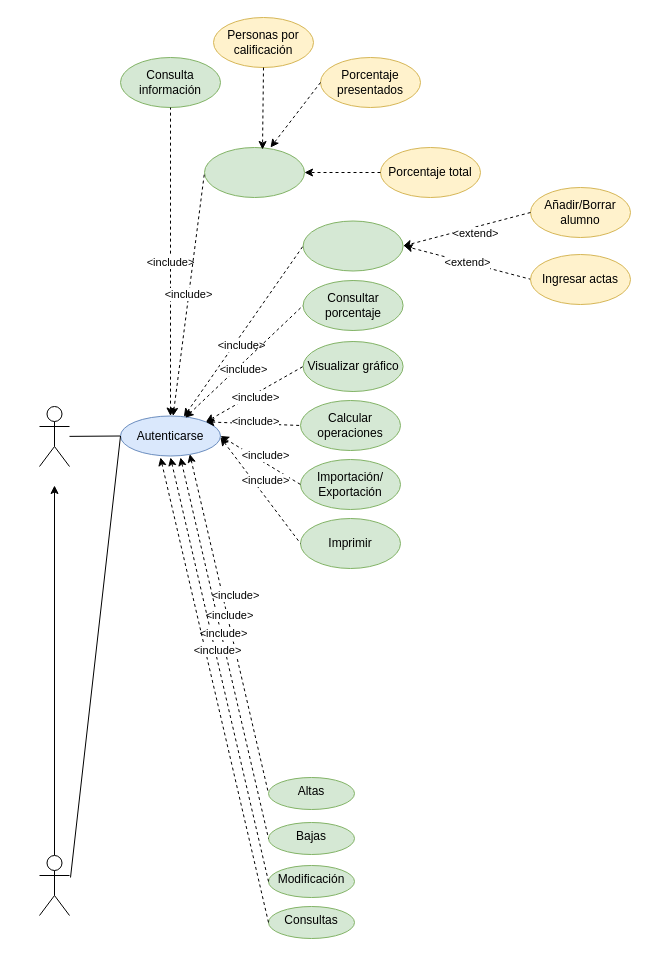
Image size: 648x956. Some labels were removed from this diagram. The shapes that lost their labels are listed below. From the top down, each one's centre as x and y in pixels, then its label:
(x=254, y=172): Obtener estadísticas
(x=352, y=245): Completar Acta
(x=54, y=436): Profesor
(x=54, y=885): Administrador
